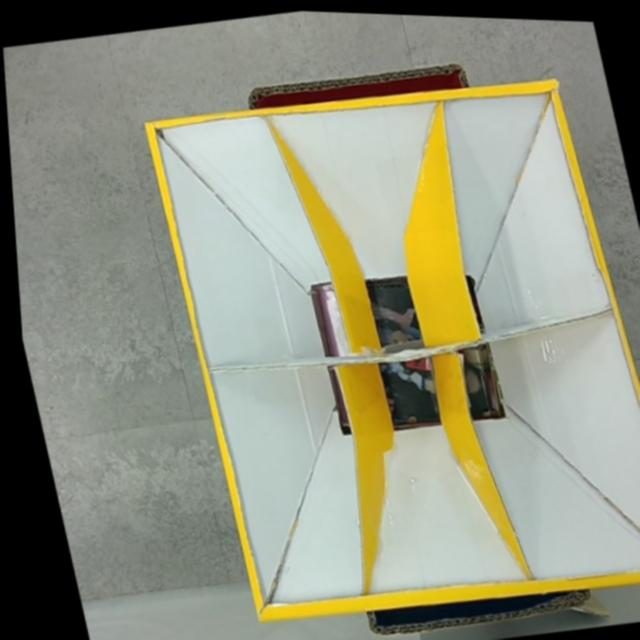box: (132, 28, 640, 640)
